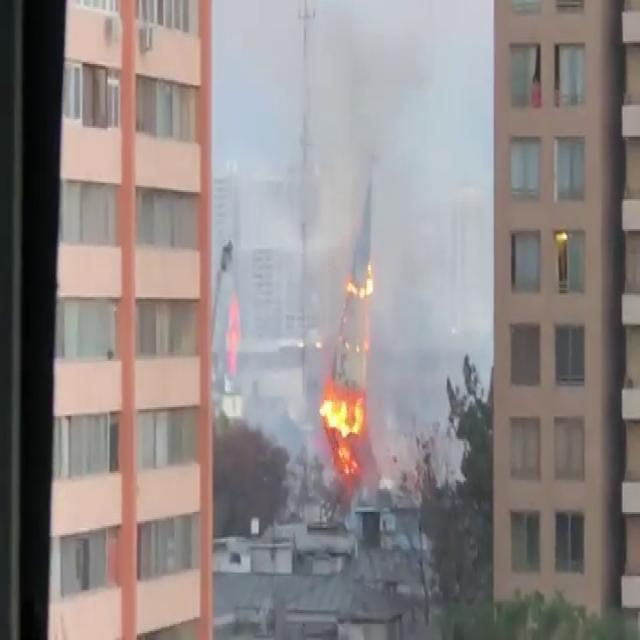Fire: (318, 384, 364, 474), (343, 258, 375, 300)
